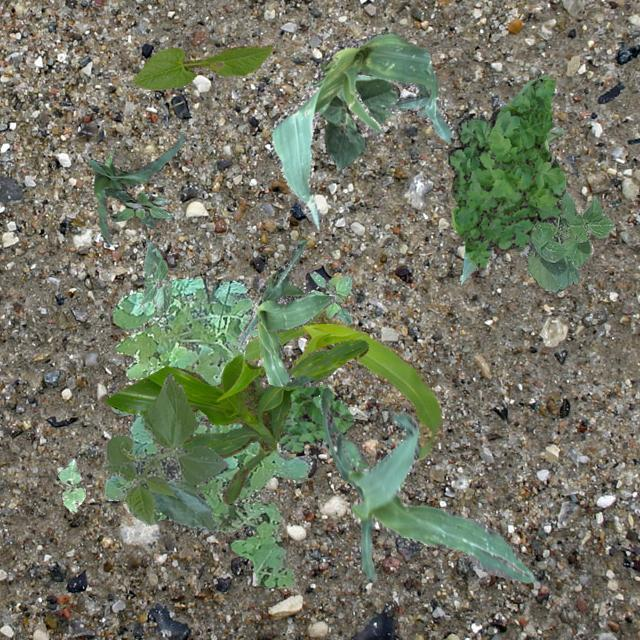crop: (105, 338, 366, 502), (320, 386, 534, 582), (244, 272, 442, 459), (269, 30, 452, 228), (100, 372, 228, 530), (460, 125, 566, 284), (236, 240, 334, 386), (88, 132, 185, 245), (512, 192, 612, 290), (318, 74, 400, 166), (130, 44, 272, 90), (318, 398, 370, 468), (138, 240, 172, 316), (56, 456, 84, 512)
weed: (102, 278, 312, 588), (446, 74, 564, 266), (278, 382, 352, 452), (104, 186, 172, 228), (306, 270, 350, 324)
